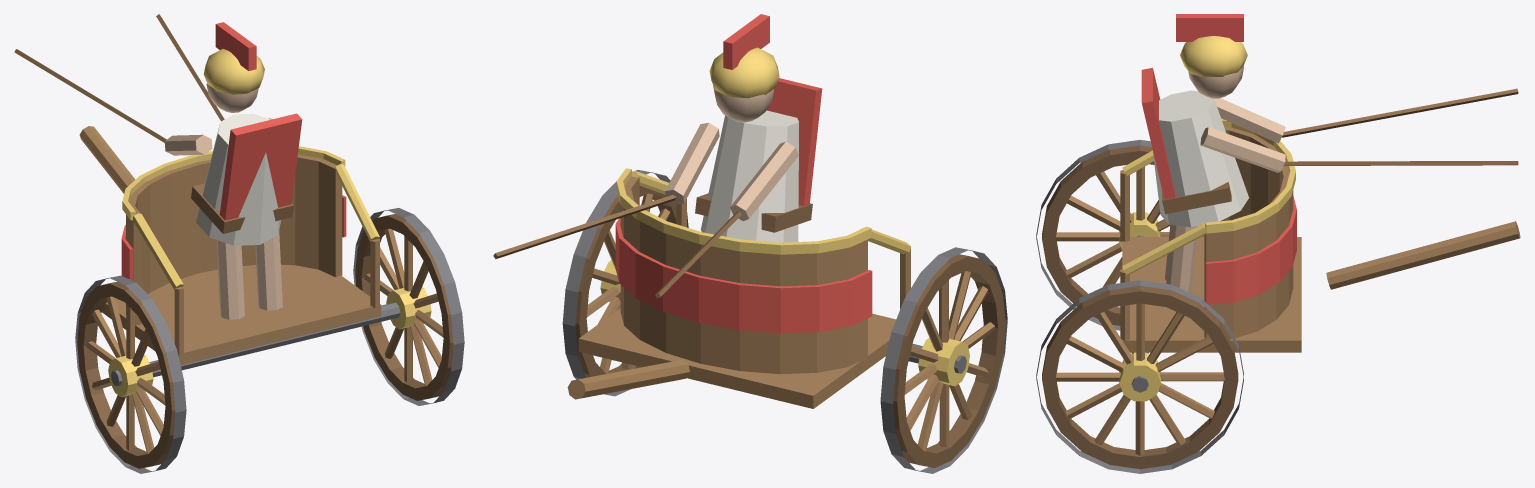
File: cart.glb
3 views of the same model, side by side, from view 1: azimuth 30°, elevation 25°; view 2: azimuth 150°, elevation 25°; view 3: azimuth 270°, elevation 25° (orthographic). The views are drawn at different scales.
Visible parts, largest first — view 1: Body, WheelL, WheelR, Pole; view 2: Body, WheelL, WheelR, Pole; view 3: Body, WheelR, WheelL, Pole.
Boxes of the visible parts, x1=… form: Body: x1=14, y1=14, x2=400, y2=385; WheelL: x1=75, y1=275, x2=186, y2=473; WheelR: x1=353, y1=208, x2=464, y2=405; Pole: x1=79, y1=126, x2=135, y2=193; Body: x1=493, y1=14, x2=966, y2=408; WheelL: x1=880, y1=247, x2=1007, y2=473; WheelR: x1=562, y1=170, x2=688, y2=396; Pole: x1=567, y1=359, x2=689, y2=399; Body: x1=1120, y1=14, x2=1518, y2=392; WheelR: x1=1036, y1=280, x2=1243, y2=473; WheelL: x1=1036, y1=139, x2=1204, y2=330; Pole: x1=1326, y1=221, x2=1520, y2=289.
Bounding box in the file's own units: 1.96 × 2.25 × 2.56.
